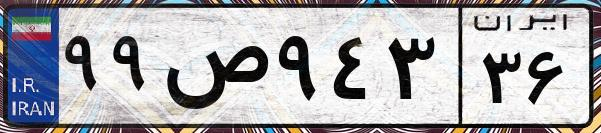3: (385, 28, 445, 110), (475, 38, 525, 113)
4: (330, 28, 385, 110)
6: (525, 38, 570, 115)
9: (270, 28, 330, 110), (57, 26, 110, 100), (110, 28, 158, 98)
ص: (158, 20, 270, 120)
